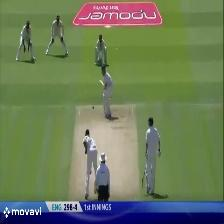ball: (90, 103, 96, 112)
batsman: (98, 64, 114, 120)
